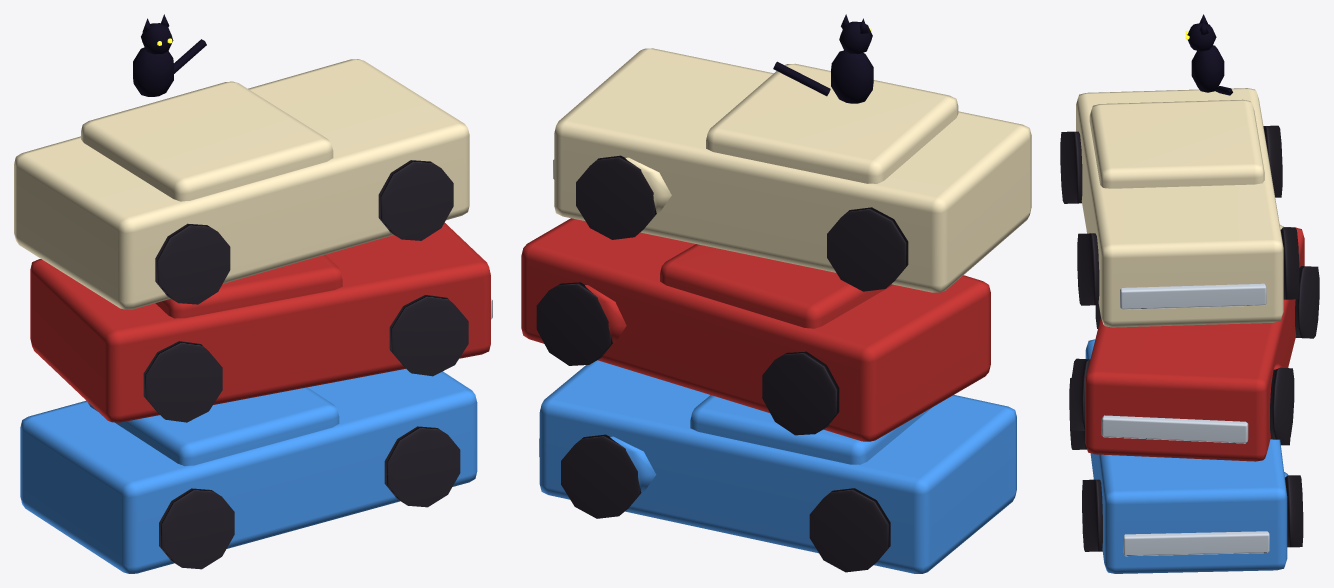
The model's file is car_stack.glb.
The picture shows the model from 3 angles, left to right: view 1: azimuth 30°, elevation 25°; view 2: azimuth 150°, elevation 25°; view 3: azimuth 270°, elevation 25°; orthographic projection. The views are drawn at different scales.
Visible parts, largest first — view 1: Cars; view 2: Cars; view 3: Cars.
Part boxes in pixels (x1,y1,x2,y2): Cars: [14, 14, 492, 573]; Cars: [521, 14, 1031, 573]; Cars: [1060, 14, 1319, 573].
Size of the model in its own units: 1.97 by 2.26 by 1.2.
